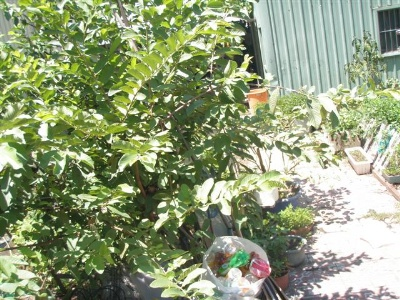box: (344, 145, 373, 175)
bucket: (246, 87, 268, 110)
